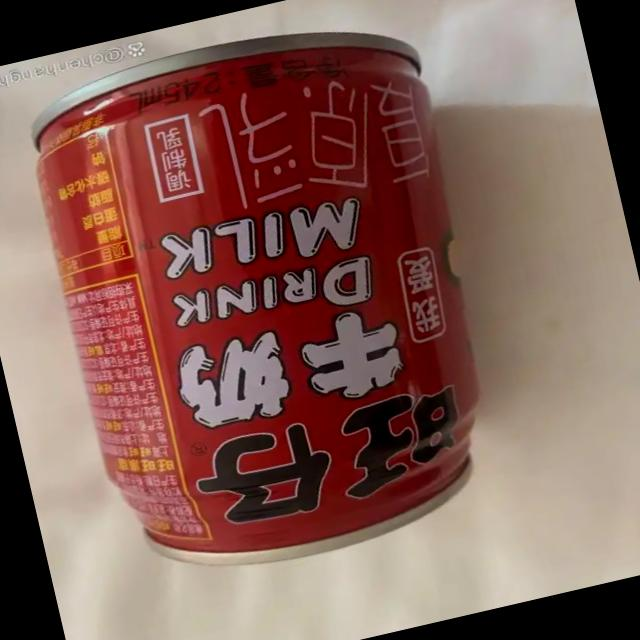can: (7, 0, 529, 602)
